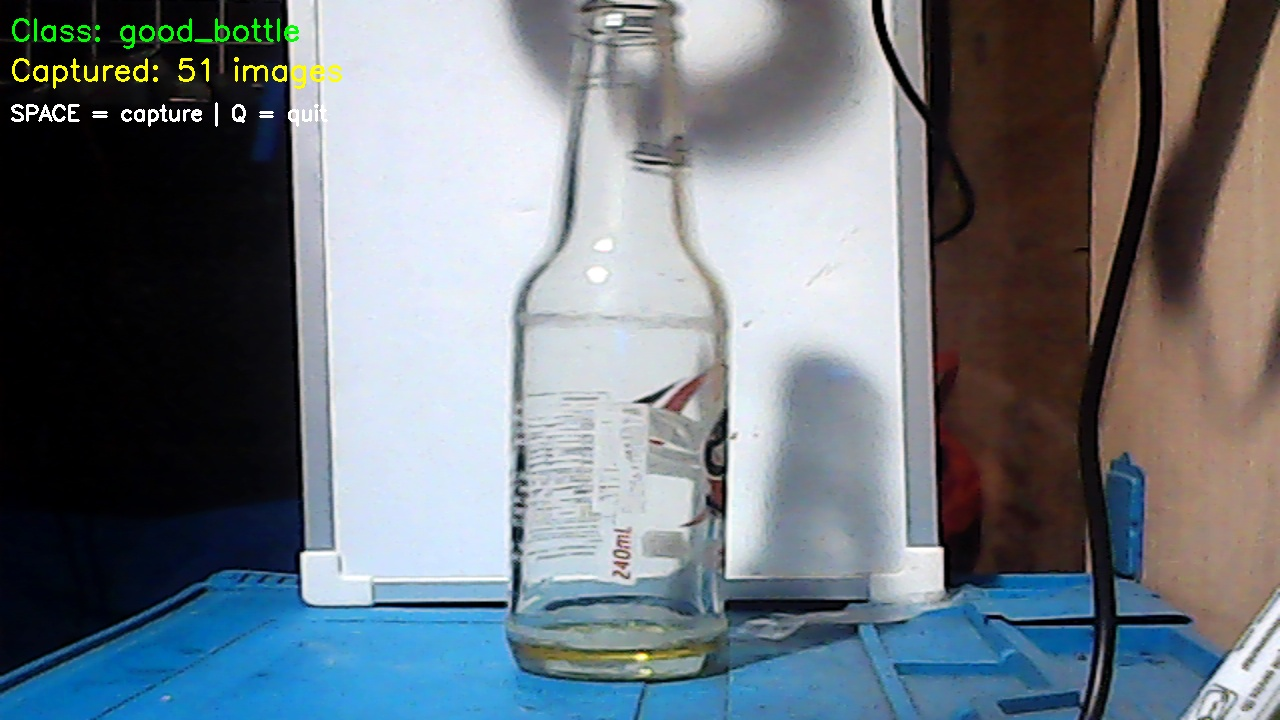good_bottle: (485, 5, 747, 686)
